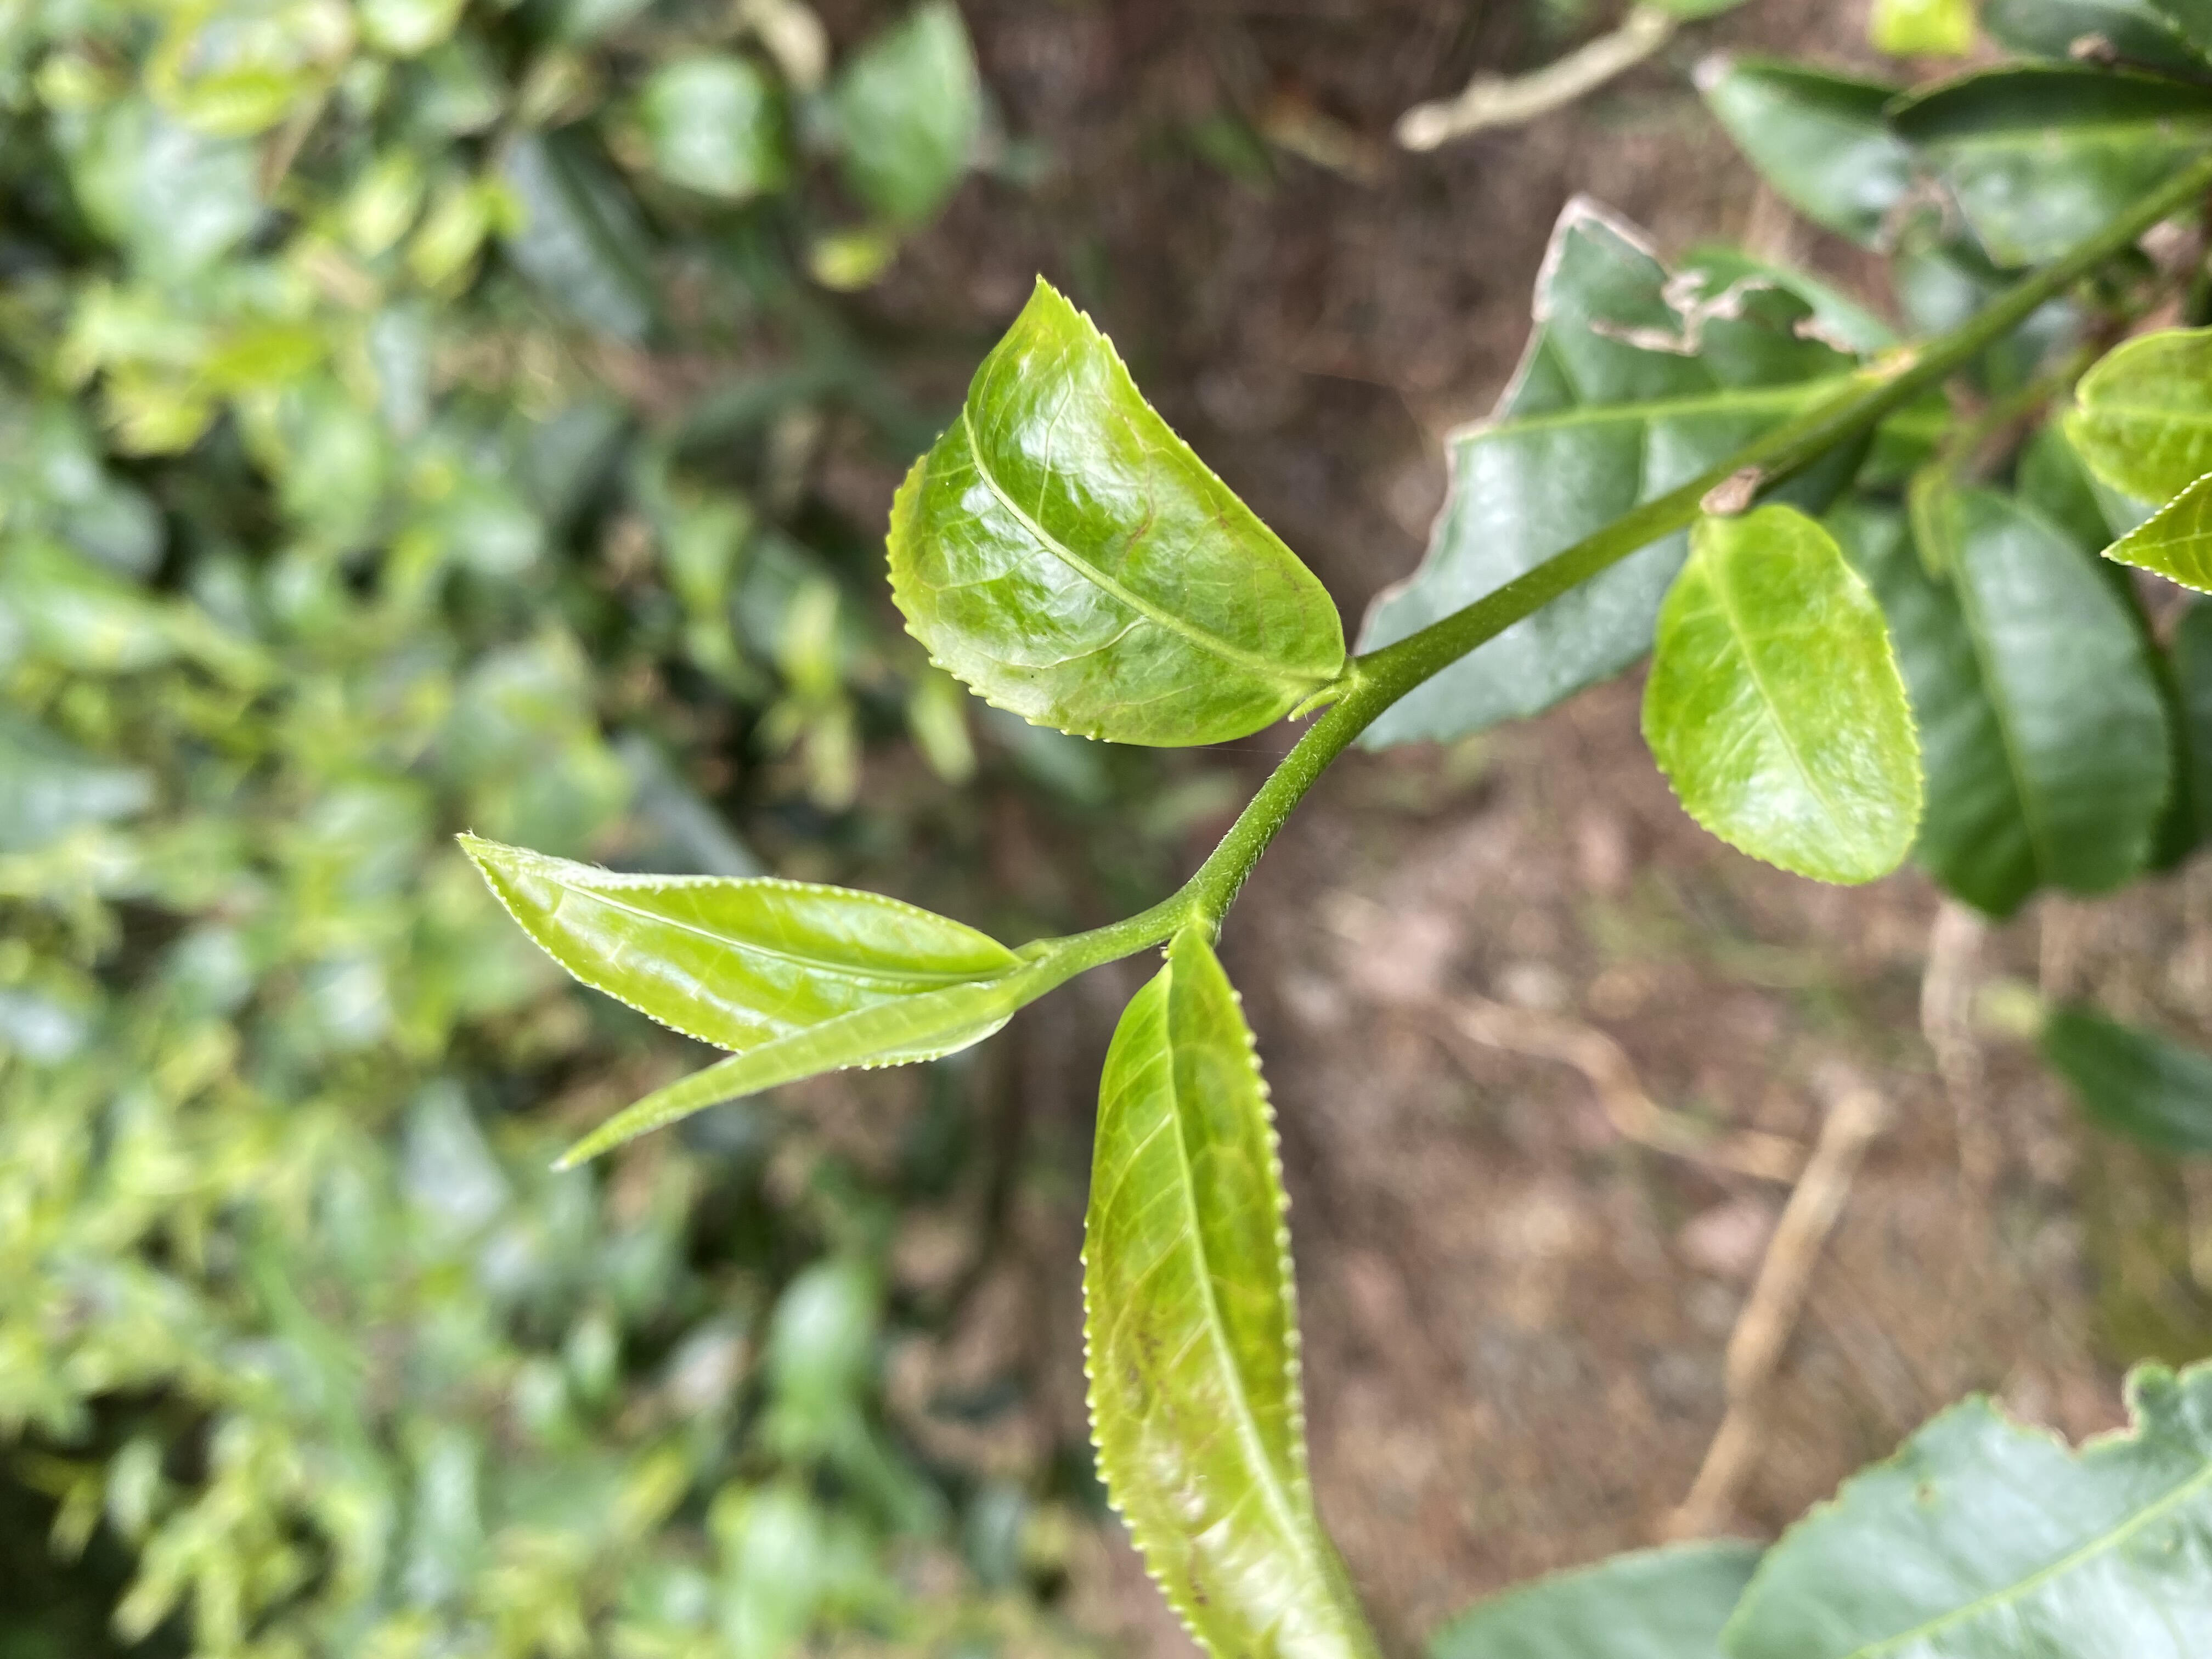chihuo_high: (1343, 192, 1879, 751)
healthy: (881, 272, 1343, 753), (451, 830, 1029, 1072), (1639, 502, 1925, 885)
tanju_low: (1076, 936, 1381, 1659)
